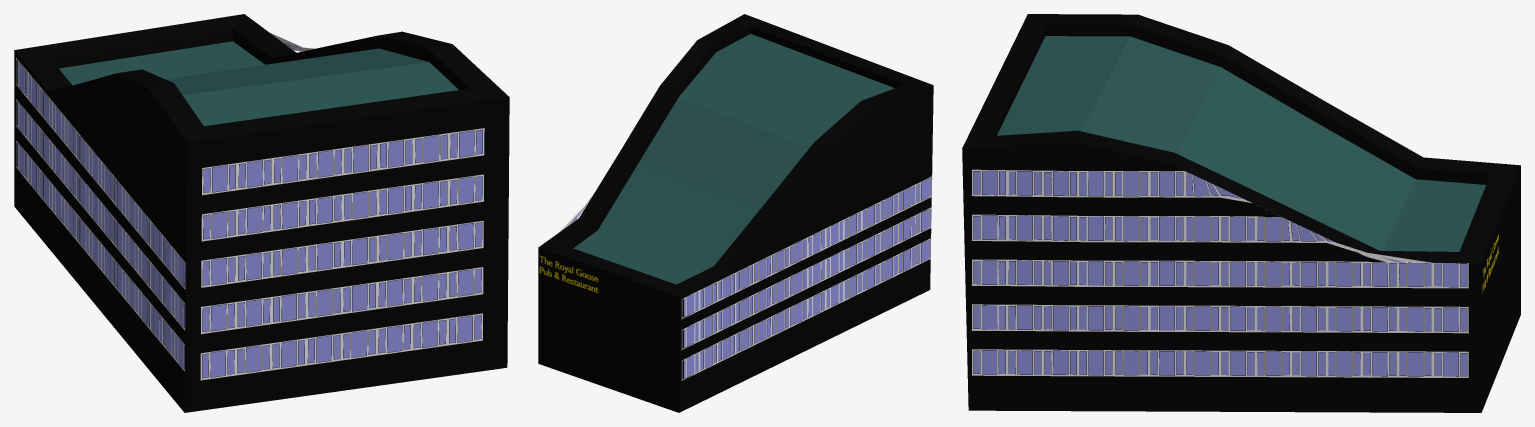
Rendered from TheRoyalGoosePub.fbx.
3 views of the same model, side by side, from view 1: azimuth 30°, elevation 25°; view 2: azimuth 150°, elevation 25°; view 3: azimuth 270°, elevation 25° (orthographic). The views are drawn at different scales.
Visible parts, largest first — view 1: TheRoyalGoosePub; view 2: TheRoyalGoosePub; view 3: TheRoyalGoosePub.
Boxes of the visible parts, x1,y1,x2,y2 form: TheRoyalGoosePub: [14, 14, 509, 412]; TheRoyalGoosePub: [538, 14, 933, 412]; TheRoyalGoosePub: [962, 14, 1520, 412].
Size of the model in its own units: 2284 by 2088 by 3918.
